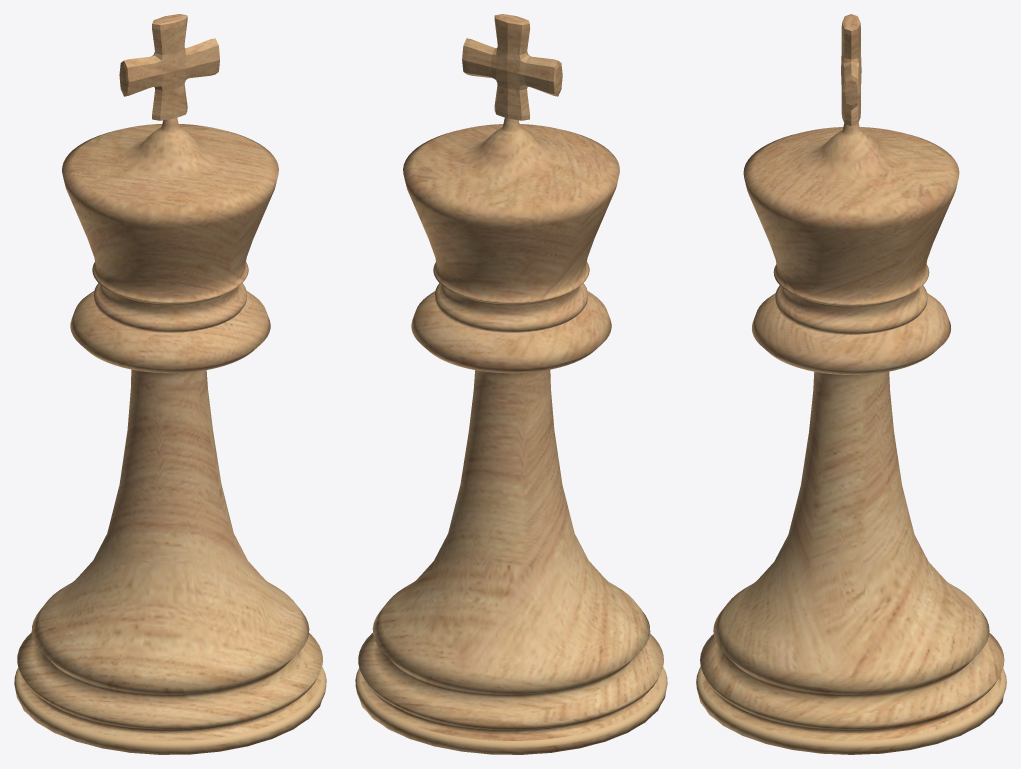
Rendered from king_white.glb.
3 renders of one model, left to right at view 1: azimuth 30°, elevation 25°; view 2: azimuth 150°, elevation 25°; view 3: azimuth 270°, elevation 25°, orthographic.
Visible parts, largest first — view 1: Cylinder; view 2: Cylinder; view 3: Cylinder.
Part boxes in pixels (<box>): Cylinder: <box>14,14,326,754</box>; Cylinder: <box>355,14,667,754</box>; Cylinder: <box>696,14,1006,754</box>.
Bounding box in the file's own units: 0.5998 × 1.45 × 0.5998.
1 material, 1 textured.
